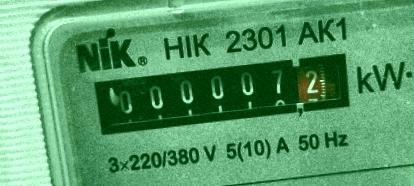0: (176, 77, 197, 106), (147, 82, 166, 112), (116, 87, 135, 116), (238, 68, 256, 98), (208, 72, 225, 101)
2: (303, 66, 322, 97)
7: (268, 67, 286, 97)
screen: (85, 44, 364, 141)
